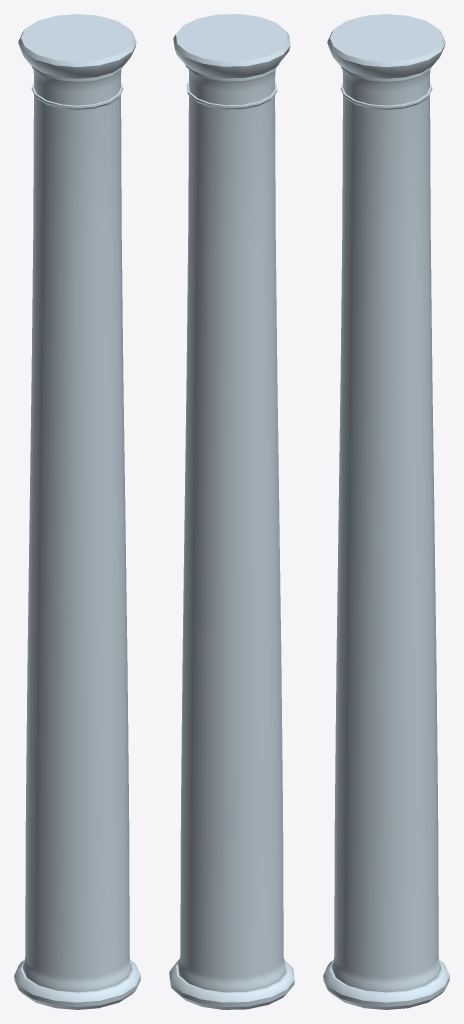
File: column01a.fbx
3 views of the same model, side by side, from view 1: azimuth 90°, elevation 25°; view 2: azimuth 150°, elevation 25°; view 3: azimuth 270°, elevation 25° (orthographic).
Parts seen in each view (by area): view 1: column01a_reference; view 2: column01a_reference; view 3: column01a_reference.
Boxes of the visible parts, x1,y1,x2,y2 form: column01a_reference: (14,14,140,1009); column01a_reference: (169,14,294,1009); column01a_reference: (323,14,449,1009).
Bounding box in the file's own units: 2330 × 19200 × 2330.
